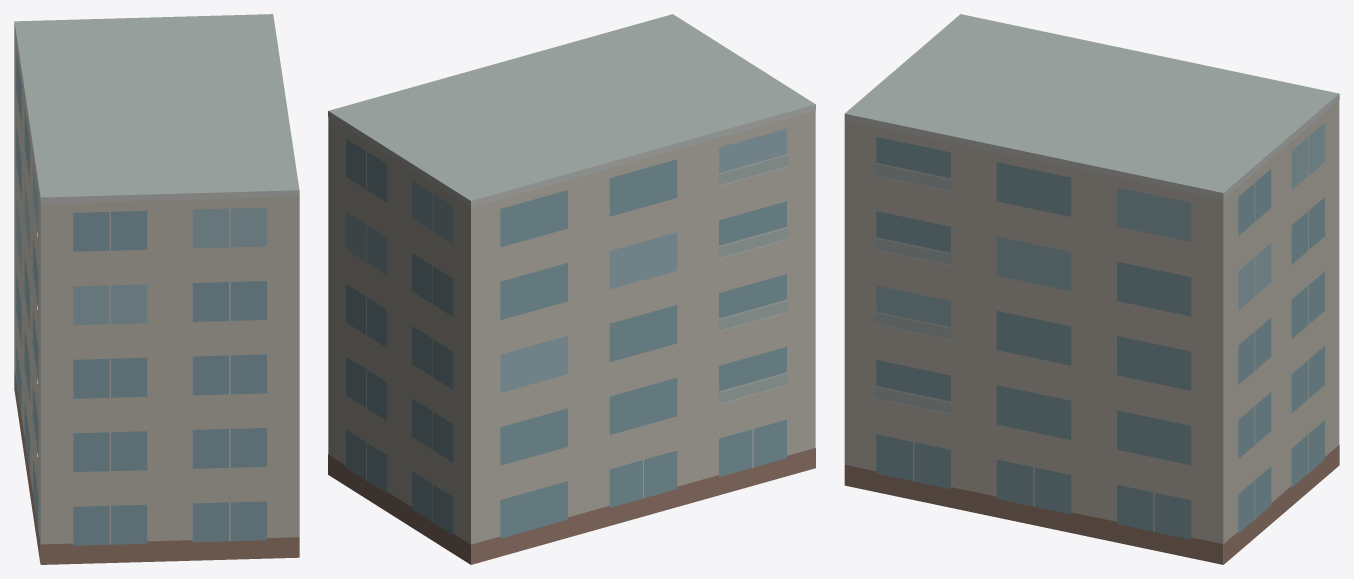
The model's file is survey-upis-32894322.glb.
3 renders of one model, left to right at view 1: azimuth 30°, elevation 25°; view 2: azimuth 150°, elevation 25°; view 3: azimuth 270°, elevation 25°, orthographic. The views are drawn at different scales.
Parts seen in each view (by area): view 1: survey-upis-32894322.tmp; view 2: survey-upis-32894322.tmp; view 3: survey-upis-32894322.tmp.
Boxes of the visible parts, x1,y1,x2,y2 form: survey-upis-32894322.tmp: (14,14,299,564); survey-upis-32894322.tmp: (328,14,815,564); survey-upis-32894322.tmp: (844,14,1339,564).
Bounding box in the file's own units: 14.67 × 14.2 × 17.14.
